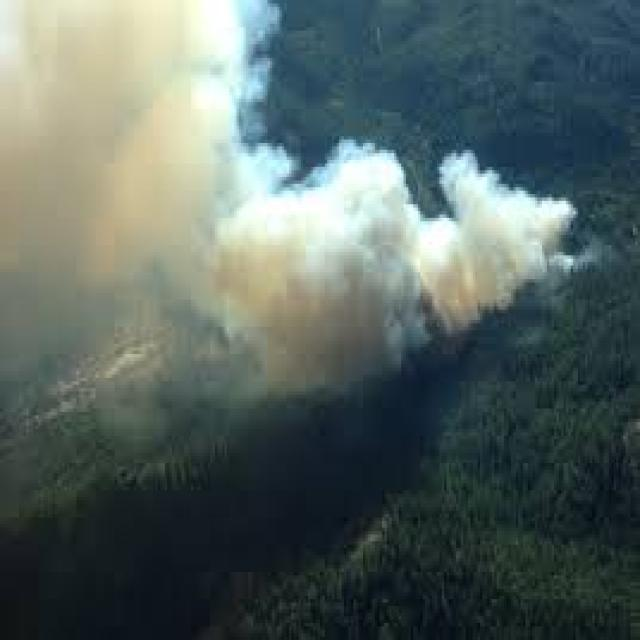Smoke: (0, 0, 577, 415)
